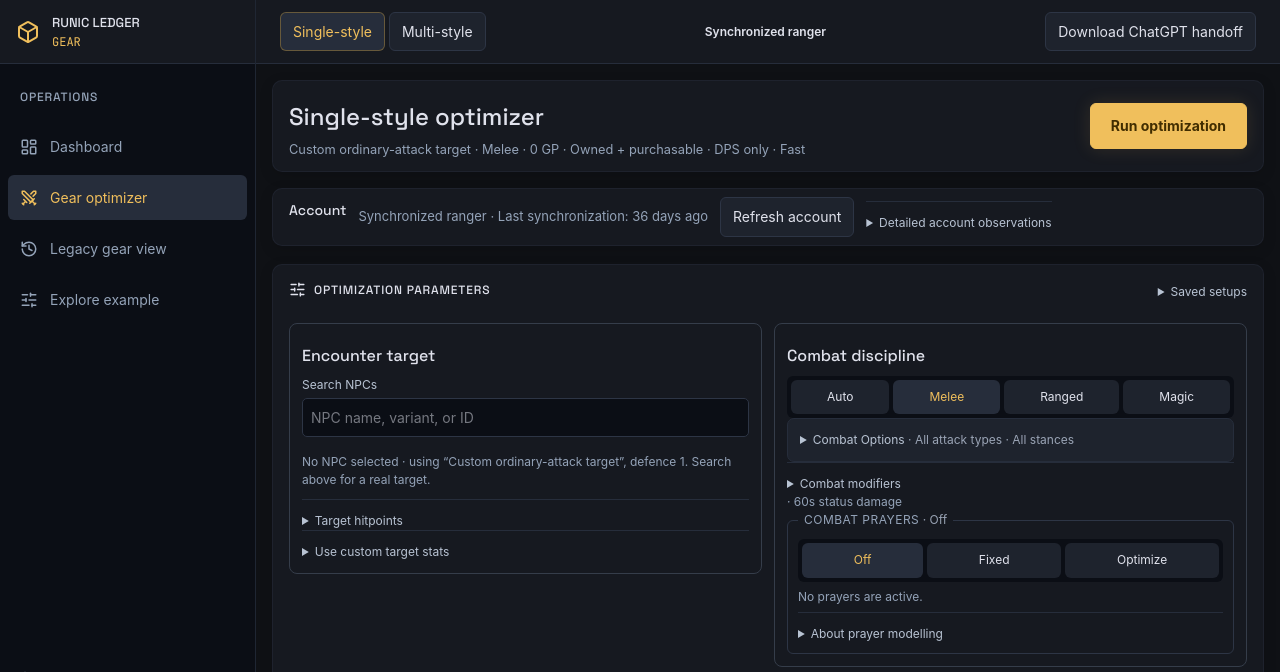
Test: shows no solution and unavailable baseline reasons without inventing metrics
Expected: the text "Synchronized ranger" is shown, [705,24,826,38]
Step 1. Click the button "Run optimization" → (1168, 126), box [1090,103,1247,149]
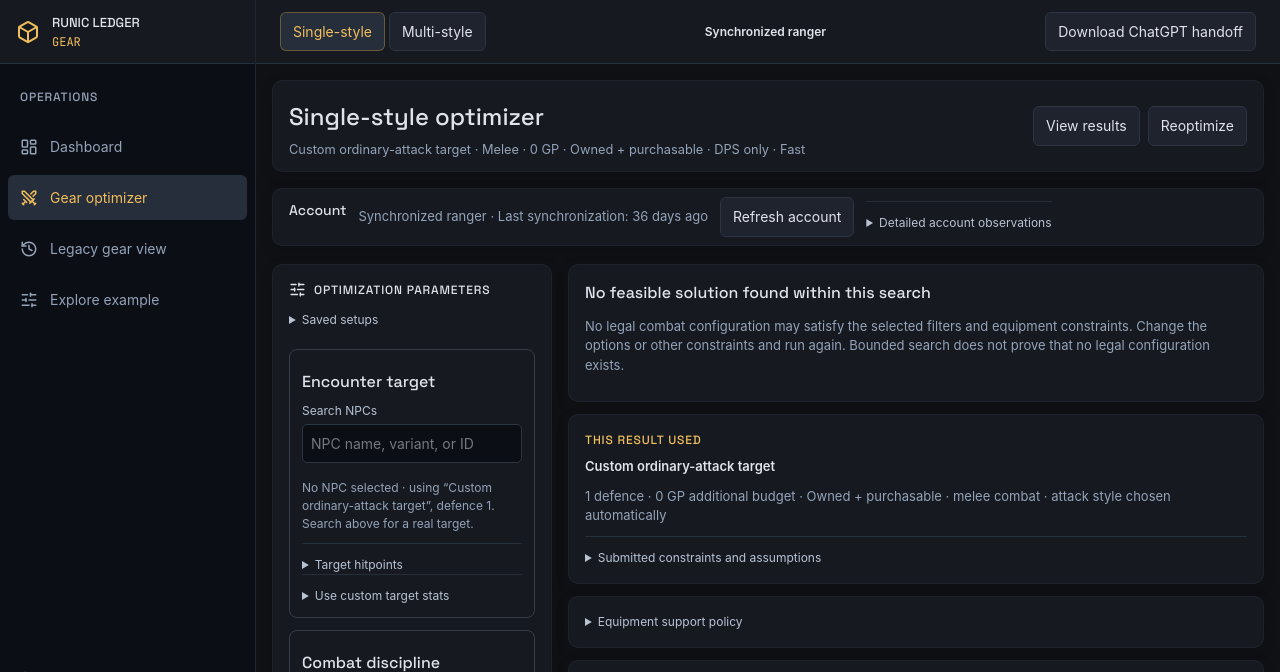
Now the heading "No feasible solution found within this search" is shown, box [585,282,931,302]
